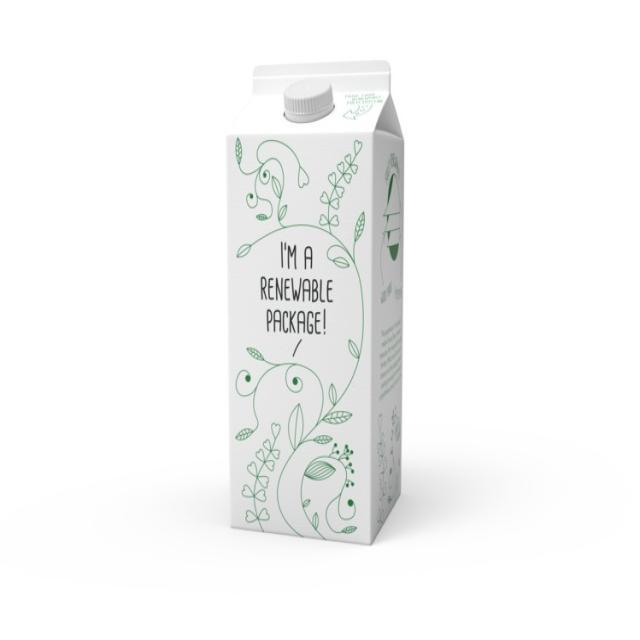Carton: (216, 55, 415, 568)
